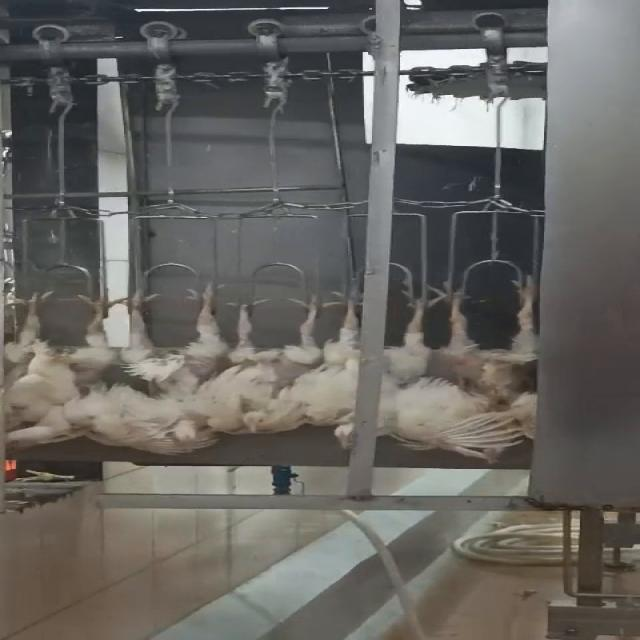chicken: (377, 267, 515, 466), (0, 280, 128, 452), (437, 270, 539, 435), (130, 281, 221, 458), (212, 294, 310, 438), (304, 283, 368, 450)
